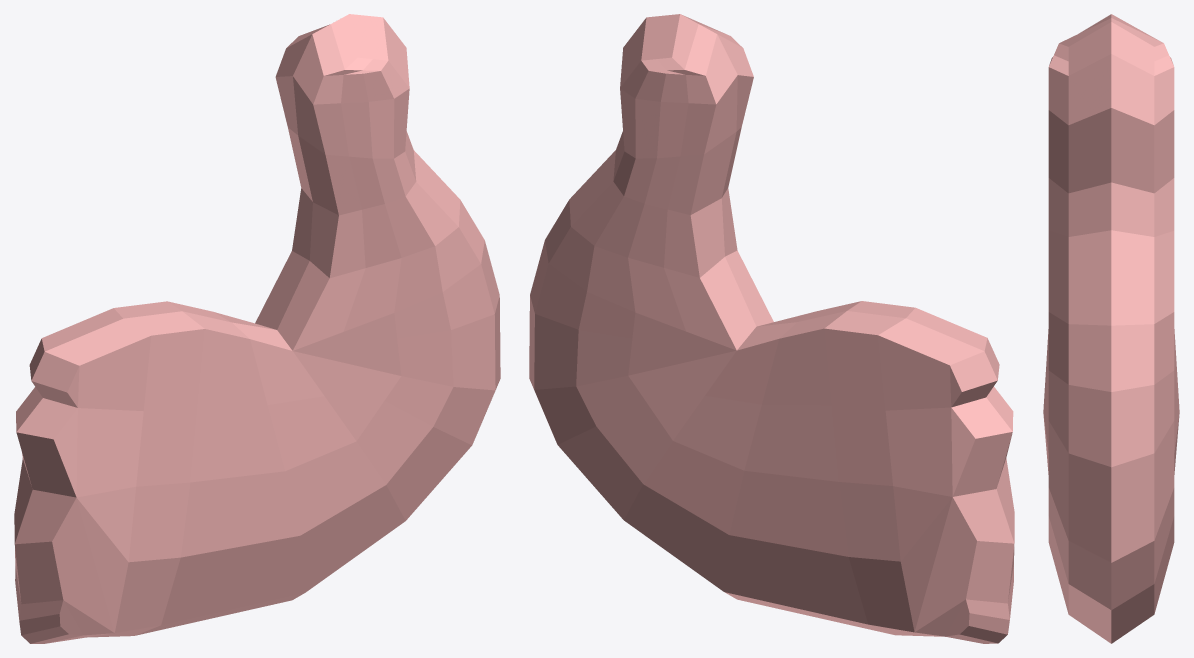
The model's file is Raw_Chicken.fbx.
3 views of the same model, side by side, from view 1: azimuth 30°, elevation 25°; view 2: azimuth 150°, elevation 25°; view 3: azimuth 270°, elevation 25° (orthographic). The views are drawn at different scales.
Parts seen in each view (by area): view 1: Plane; view 2: Plane; view 3: Plane.
Boxes of the visible parts, x1,y1,x2,y2 form: Plane: (14, 14, 500, 643); Plane: (529, 14, 1014, 643); Plane: (1043, 14, 1179, 643).
Bounding box in the file's own units: 253 × 285 × 53.98.
